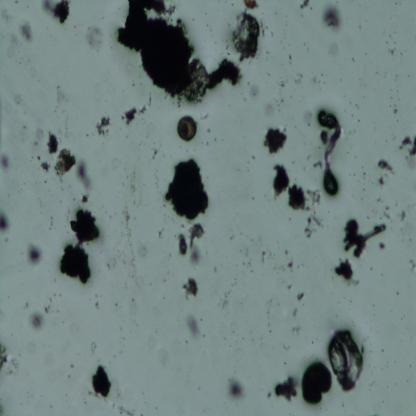Background material: (117, 0, 243, 106), (59, 207, 101, 284), (164, 157, 210, 220), (325, 325, 364, 395), (230, 0, 260, 61), (39, 132, 75, 180), (344, 219, 388, 256), (300, 360, 333, 407), (118, 203, 137, 278), (176, 224, 206, 267), (87, 362, 113, 402), (304, 188, 324, 240), (219, 276, 246, 310), (75, 161, 92, 205), (42, 2, 73, 25), (264, 127, 288, 156), (270, 164, 290, 198), (274, 376, 298, 403), (51, 84, 68, 121), (333, 256, 356, 283), (86, 23, 106, 52), (4, 31, 22, 61), (287, 184, 307, 211), (376, 196, 396, 222), (226, 375, 245, 402), (16, 18, 34, 46), (324, 7, 344, 32), (128, 170, 142, 204), (137, 93, 155, 119), (323, 40, 344, 61), (188, 313, 202, 343), (0, 340, 11, 376), (182, 278, 200, 300), (30, 125, 44, 153), (27, 312, 46, 332), (240, 245, 254, 272), (265, 289, 273, 336), (27, 245, 44, 267), (96, 116, 112, 139), (44, 290, 59, 314), (112, 403, 137, 416), (378, 157, 395, 176), (288, 69, 306, 86), (396, 207, 409, 230), (0, 214, 12, 238), (246, 78, 261, 97), (401, 135, 416, 154), (159, 346, 173, 364), (121, 106, 134, 125), (310, 71, 325, 86), (10, 356, 22, 374), (286, 322, 301, 336), (129, 295, 138, 318), (303, 110, 315, 127), (148, 334, 160, 351), (138, 240, 148, 260), (407, 253, 416, 275), (259, 249, 272, 264), (264, 99, 275, 116), (283, 257, 296, 271), (288, 303, 300, 318), (0, 155, 10, 172), (151, 146, 162, 161), (112, 154, 123, 169), (0, 8, 13, 20), (270, 262, 284, 273), (264, 44, 271, 62), (259, 19, 266, 37), (296, 291, 306, 303), (389, 104, 399, 116), (283, 281, 293, 293), (158, 224, 166, 238), (15, 95, 23, 109), (300, 0, 311, 10), (377, 174, 386, 186), (50, 215, 56, 232), (229, 231, 238, 242), (94, 295, 101, 309), (0, 401, 6, 416), (19, 121, 28, 130), (38, 199, 43, 215), (116, 387, 123, 398), (90, 342, 96, 354), (388, 46, 396, 55), (360, 168, 368, 177), (120, 280, 128, 289), (278, 79, 286, 88), (287, 52, 293, 64), (113, 298, 119, 309), (266, 390, 272, 400), (213, 262, 218, 274), (283, 342, 290, 350), (306, 154, 314, 161), (105, 260, 110, 270), (263, 72, 271, 78), (392, 74, 398, 82), (158, 170, 160, 193), (24, 301, 29, 310), (43, 177, 49, 184), (81, 397, 87, 404), (284, 246, 288, 256), (355, 102, 360, 110), (242, 98, 248, 104), (124, 134, 130, 140), (36, 154, 41, 161), (13, 0, 20, 5), (118, 324, 123, 331), (4, 236, 8, 244), (252, 152, 256, 160), (53, 274, 57, 282), (132, 79, 136, 87), (389, 34, 394, 40), (70, 197, 76, 202), (60, 185, 64, 192), (50, 403, 54, 410), (270, 29, 273, 38), (206, 127, 211, 132), (279, 98, 284, 103), (162, 277, 166, 283), (282, 360, 286, 366), (357, 24, 361, 30), (86, 132, 90, 138), (392, 40, 396, 46), (70, 362, 74, 368), (6, 192, 10, 198), (386, 40, 390, 46), (139, 411, 143, 416), (148, 281, 152, 286), (351, 57, 355, 62), (312, 339, 315, 345), (162, 294, 165, 300), (206, 140, 209, 146), (121, 336, 125, 340), (395, 1, 398, 6), (67, 374, 70, 379), (113, 354, 116, 359), (251, 195, 254, 200), (291, 161, 295, 164), (303, 42, 306, 46), (358, 119, 361, 123), (214, 138, 218, 141), (407, 74, 410, 78), (290, 94, 292, 99), (289, 218, 291, 222), (401, 52, 403, 55)
Cellulose filter fibre: (314, 110, 342, 195)
Diatom: (177, 115, 197, 142)
